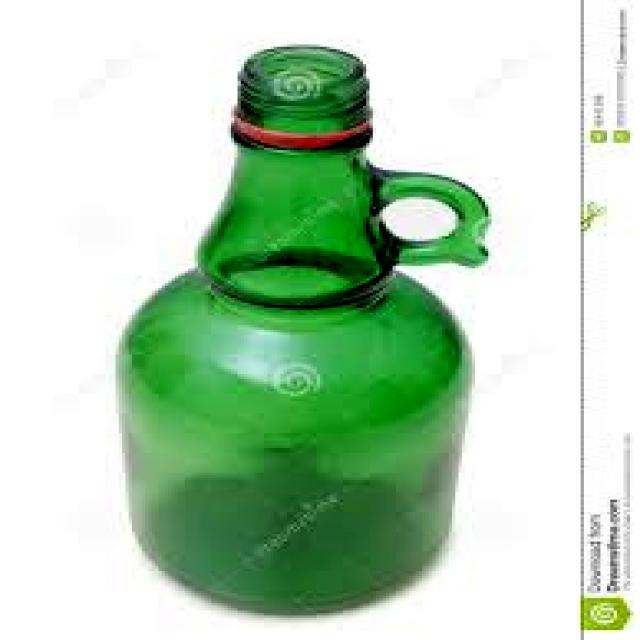Glass: (106, 43, 494, 617)
